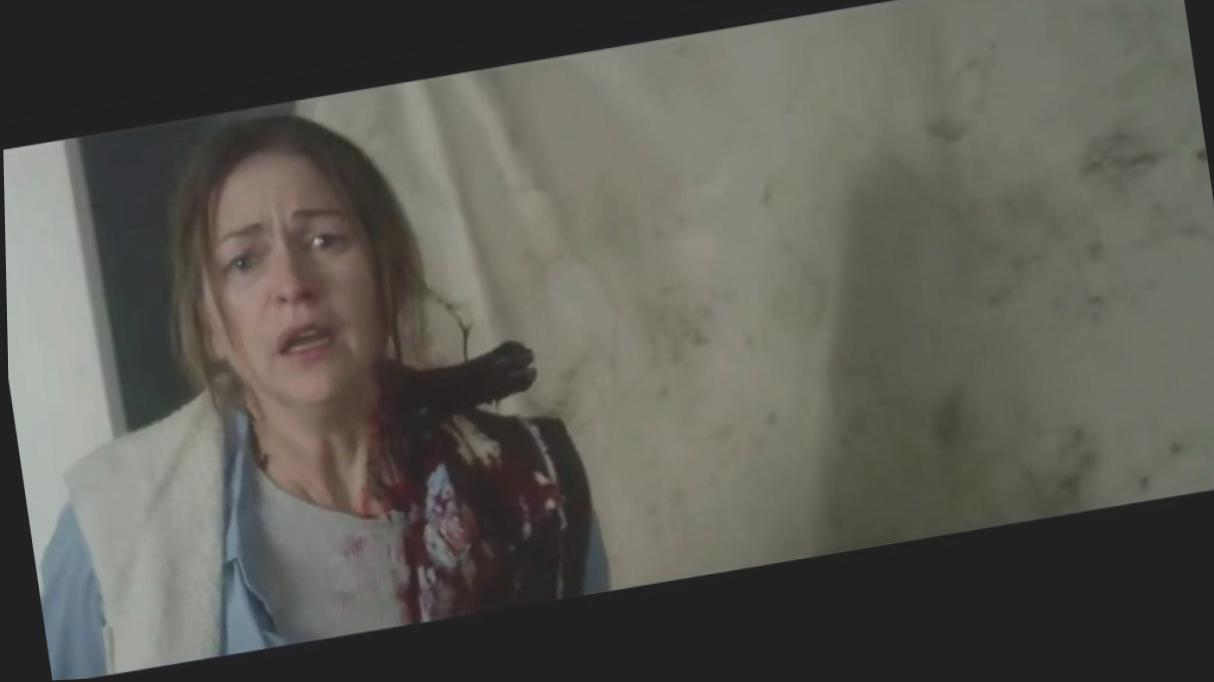Fire: (334, 345, 589, 635)
